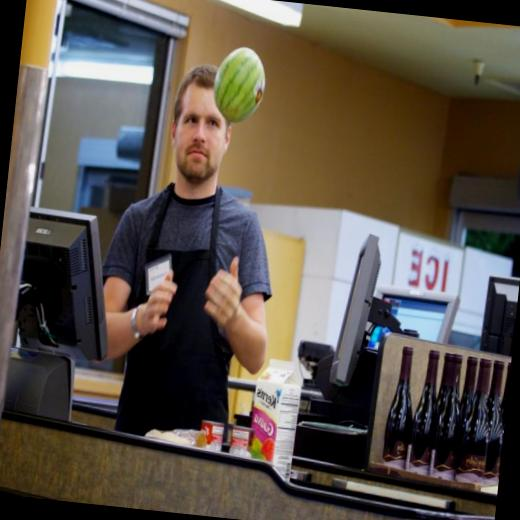Cherry: (208, 42, 269, 128)
